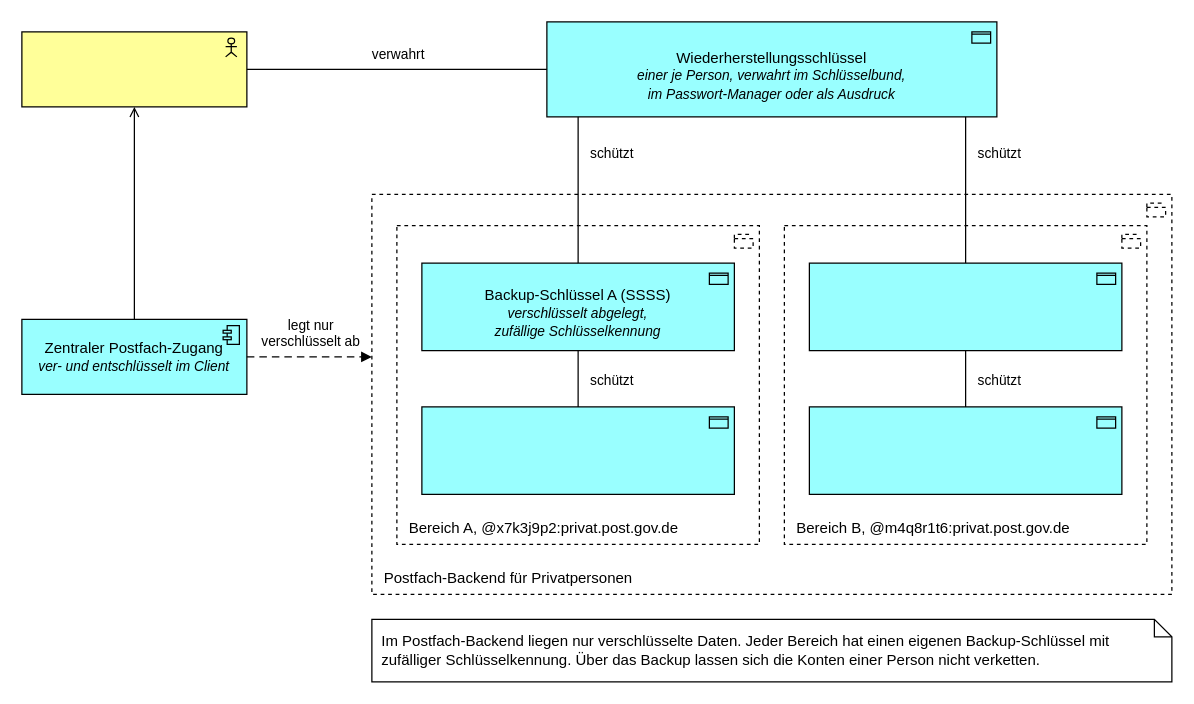
This 1194x704 diagram has some shape labels left out. Here are the shapes that lost their labels. From the top down, the centre of each, then its label:
At [134,69]: "Privatperson".
At [965,306]: "Backup-Schlüssel B (SSSS) verschlüsselt abgelegt, zufällige Schlüsselkennung".
At [577,450]: "Key Backup A Schlüssel der Nachrichten im Bereich A, verschlüsselt".
At [965,450]: "Key Backup B Schlüssel der Nachrichten im Bereich B, verschlüsselt".
